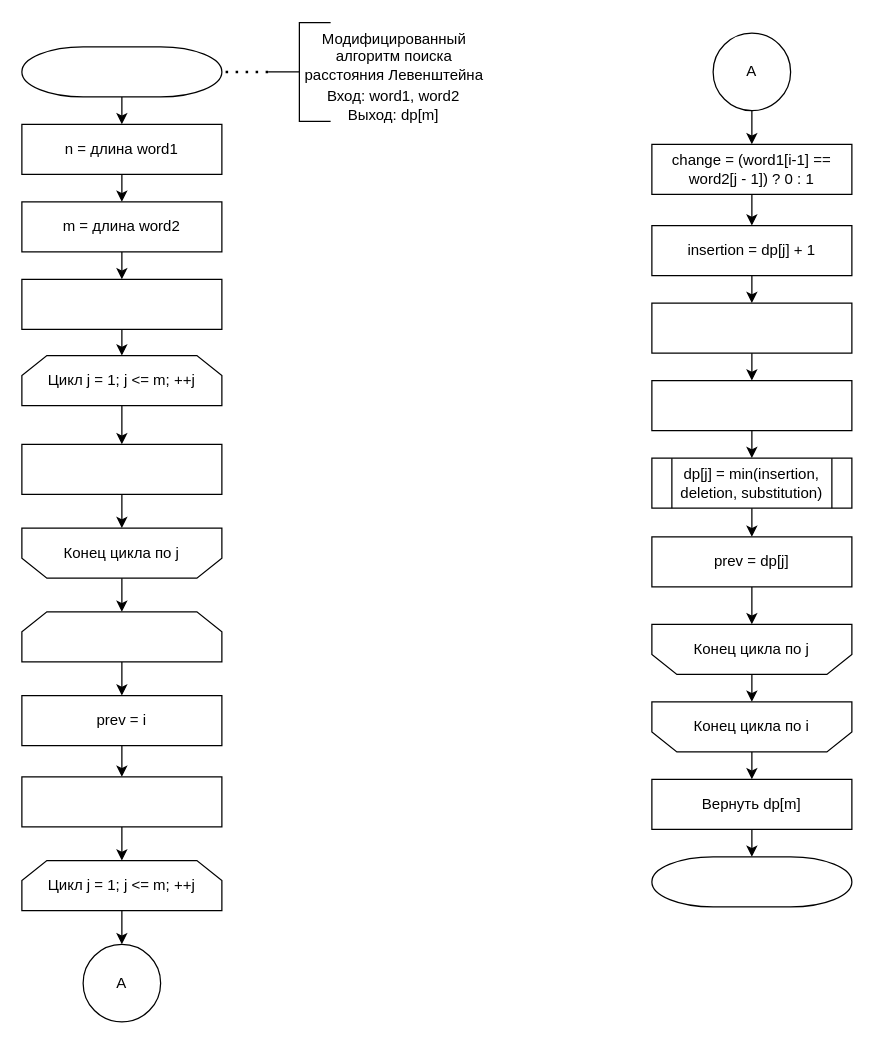
Some shapes in this 874 by 1044 pixel diagram are drawn without their labels. Here are the shapes that lost their labels. From the top down, the centre of each, then its label:
pixel 121 71: Начало
pixel 121 303: Инициализация массива dp
pixel 751 327: deletion = dp[j - 1] + 1
pixel 751 405: substitution = prev + change
pixel 121 468: dp[j] = j
pixel 121 636: Цикл i = 1; i <= n; ++i
pixel 121 801: dp[i] = i
pixel 751 881: Конец
